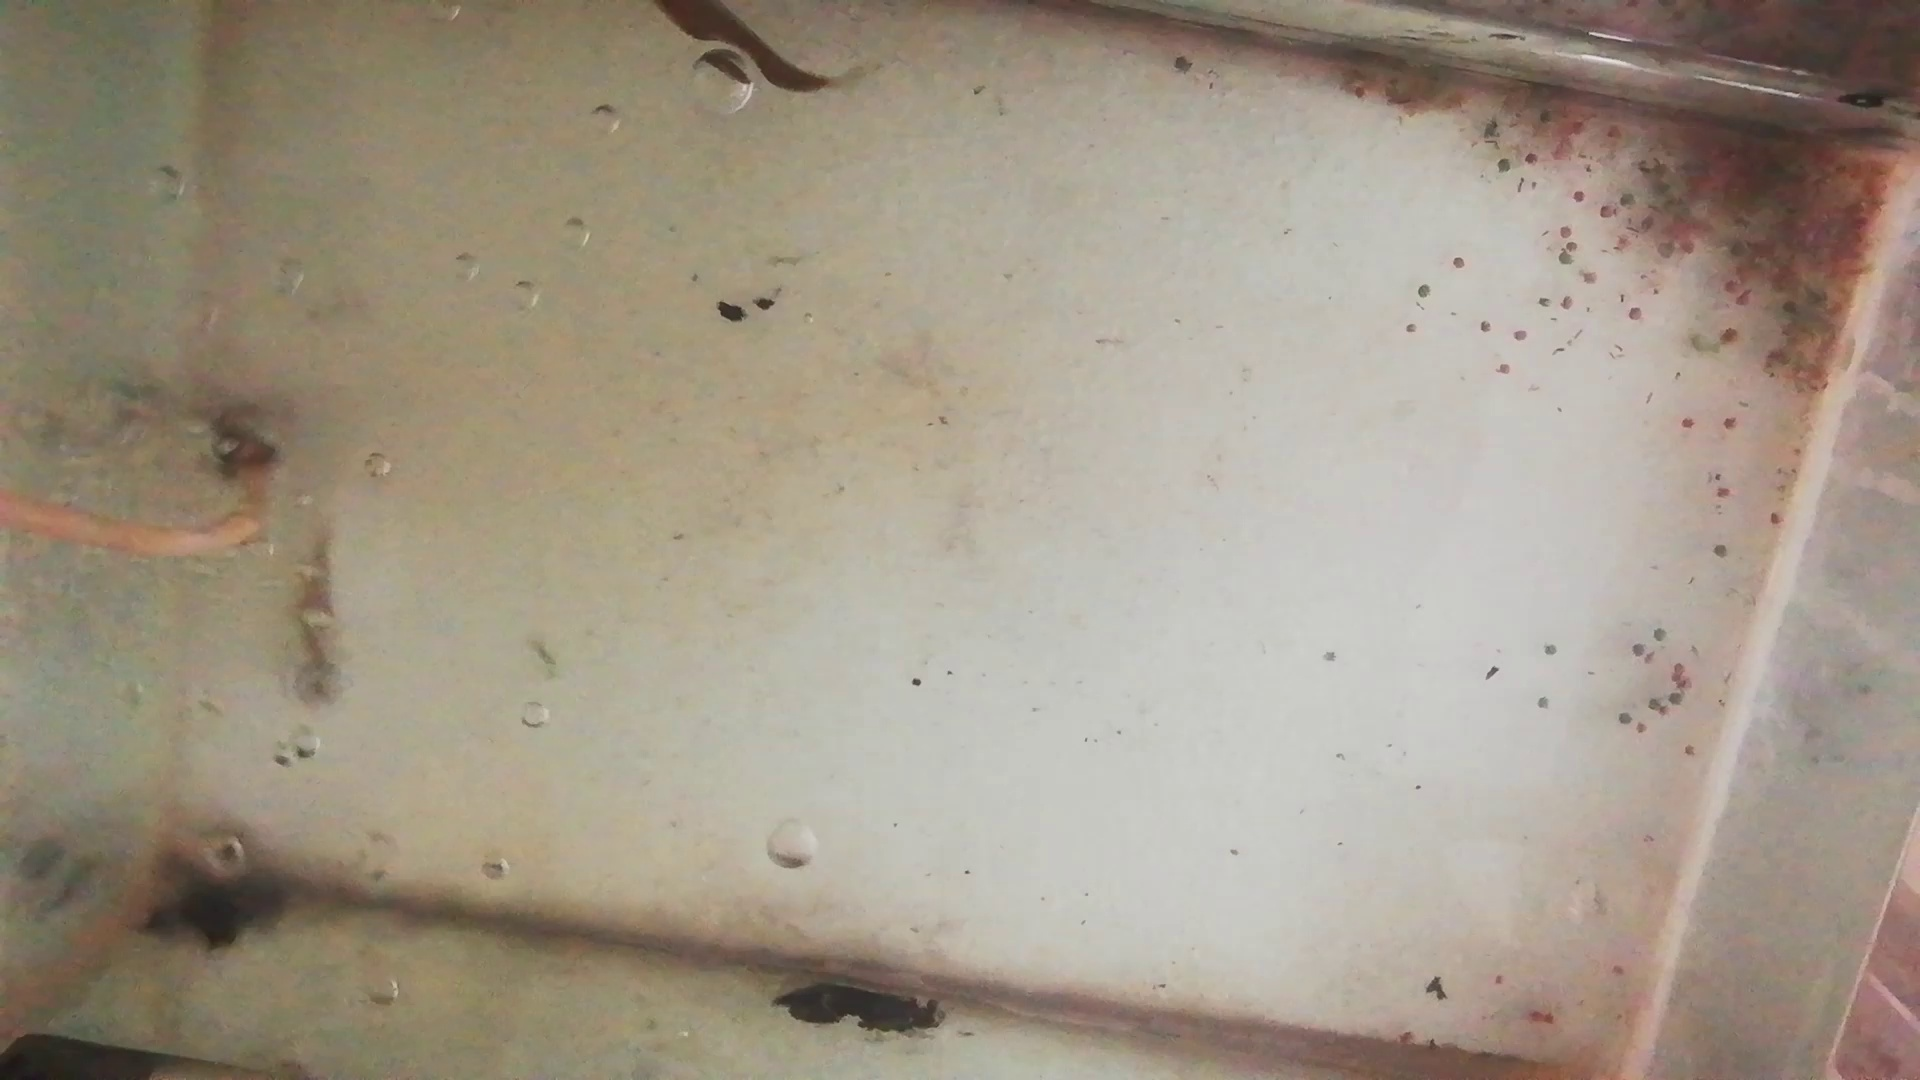fish: (658, 1, 837, 98), (297, 535, 345, 717)
